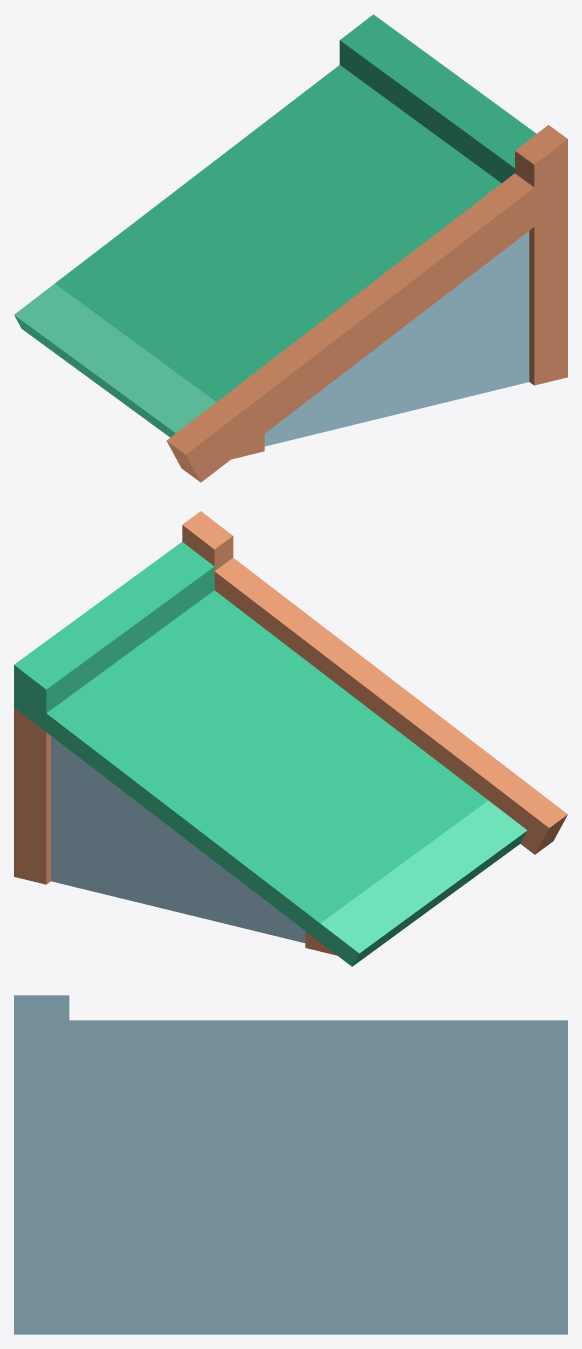
File: roofRight.fbx
3 renders of one model, top to bottom at view 1: azimuth 30°, elevation 25°; view 2: azimuth 150°, elevation 25°; view 3: azimuth 270°, elevation 25°, orthographic. The views are drawn at different scales.
Visible parts, largest first — view 1: roofRight; view 2: roofRight; view 3: roofRight.
Part boxes in pixels (x1,y1,x2,y2): roofRight: (14,14,567,482); roofRight: (14,511,567,966); roofRight: (14,995,567,1334).
Bounding box in the file's own units: 11.34 × 7.21 × 10.
